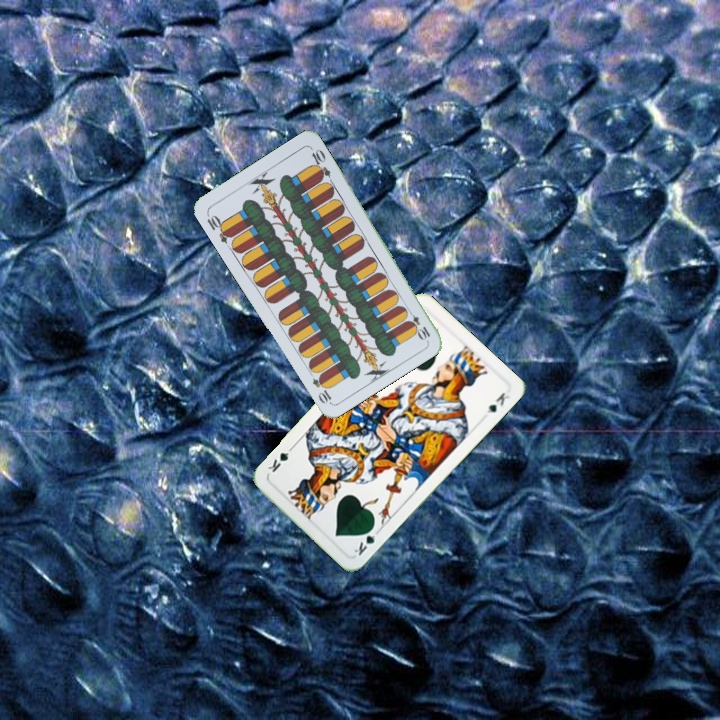E10: (203, 209, 235, 246), (403, 305, 433, 342)
GK: (349, 522, 383, 558)
